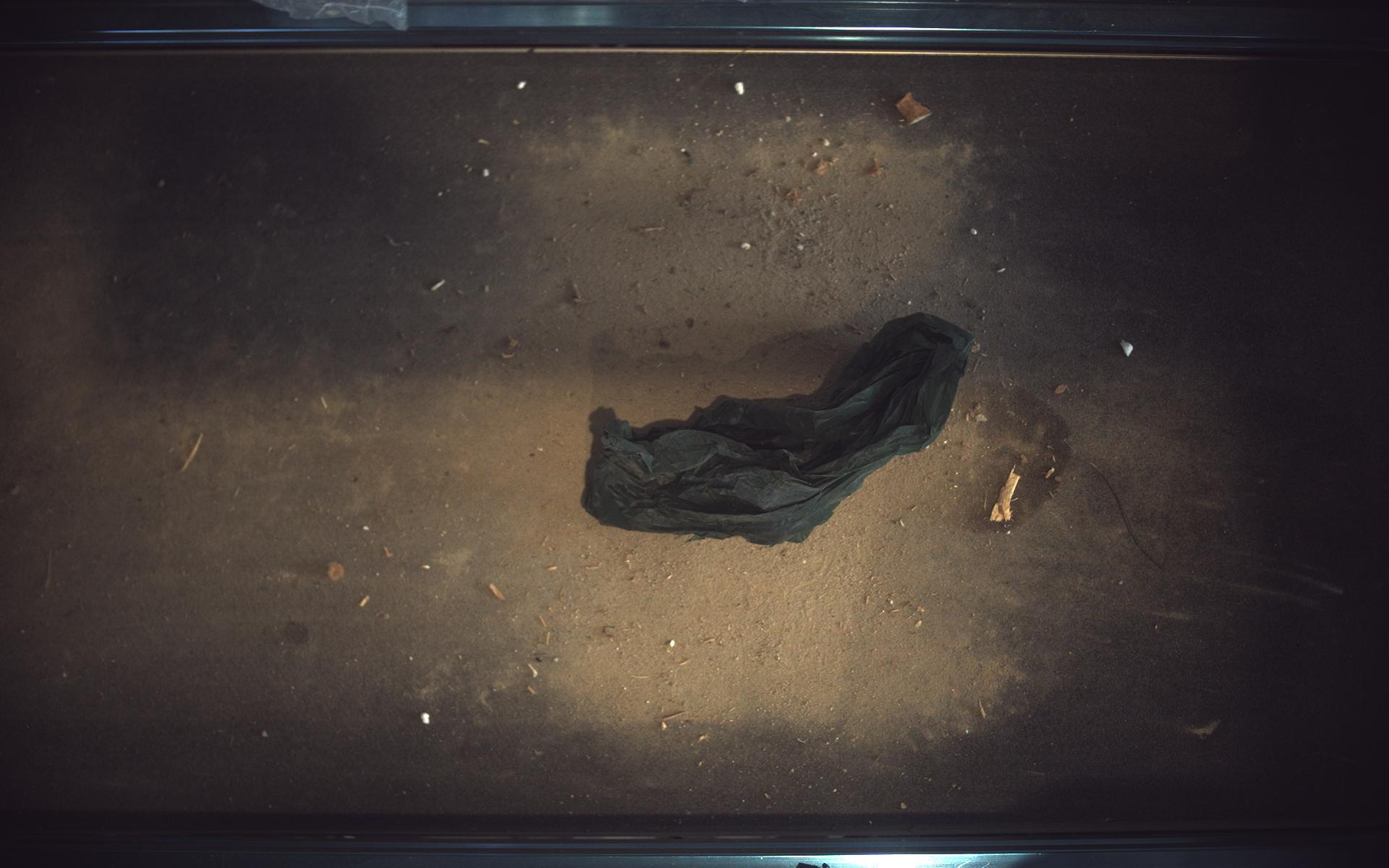general_w: (584, 312, 976, 545)
